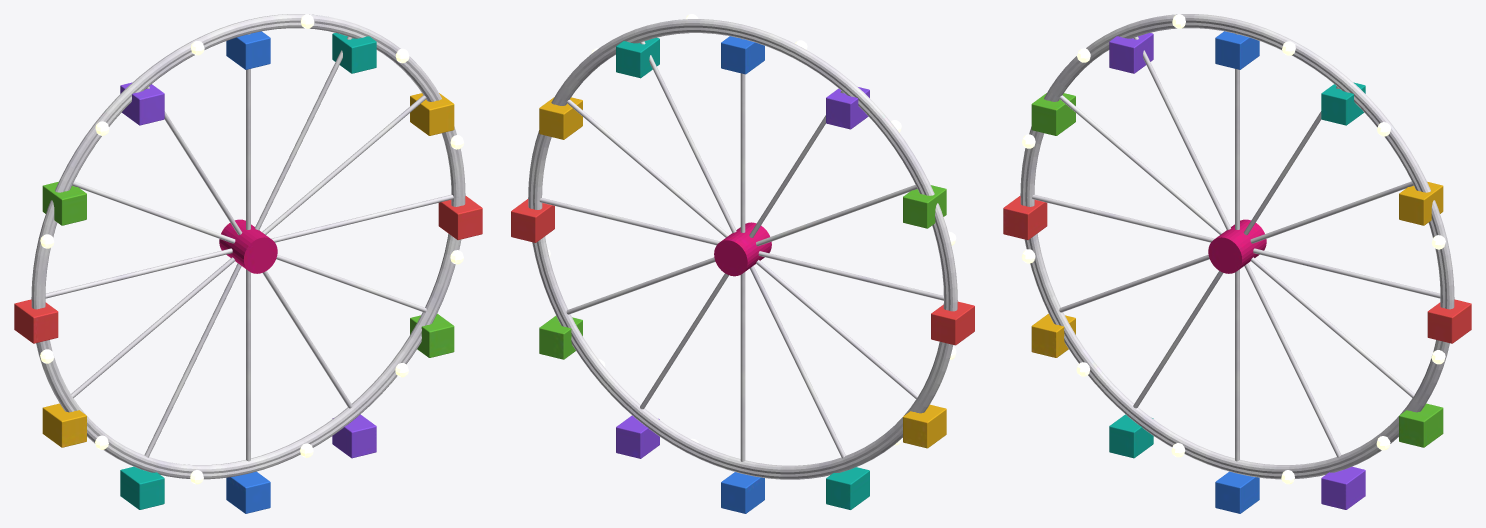
Rendered from ferris_wheel.glb.
3 views of the same model, side by side, from view 1: azimuth 30°, elevation 25°; view 2: azimuth 150°, elevation 25°; view 3: azimuth 330°, elevation 25° (orthographic).
Parts seen in each view (by area): view 1: ferris_wheel; view 2: ferris_wheel; view 3: ferris_wheel.
Part boxes in pixels (<box>): ferris_wheel: <box>14,14,482,513</box>; ferris_wheel: <box>511,14,974,513</box>; ferris_wheel: <box>1003,14,1471,513</box>.
Size of the model in its own units: 2.12 by 2.18 by 0.2.
1 material, 1 textured.
